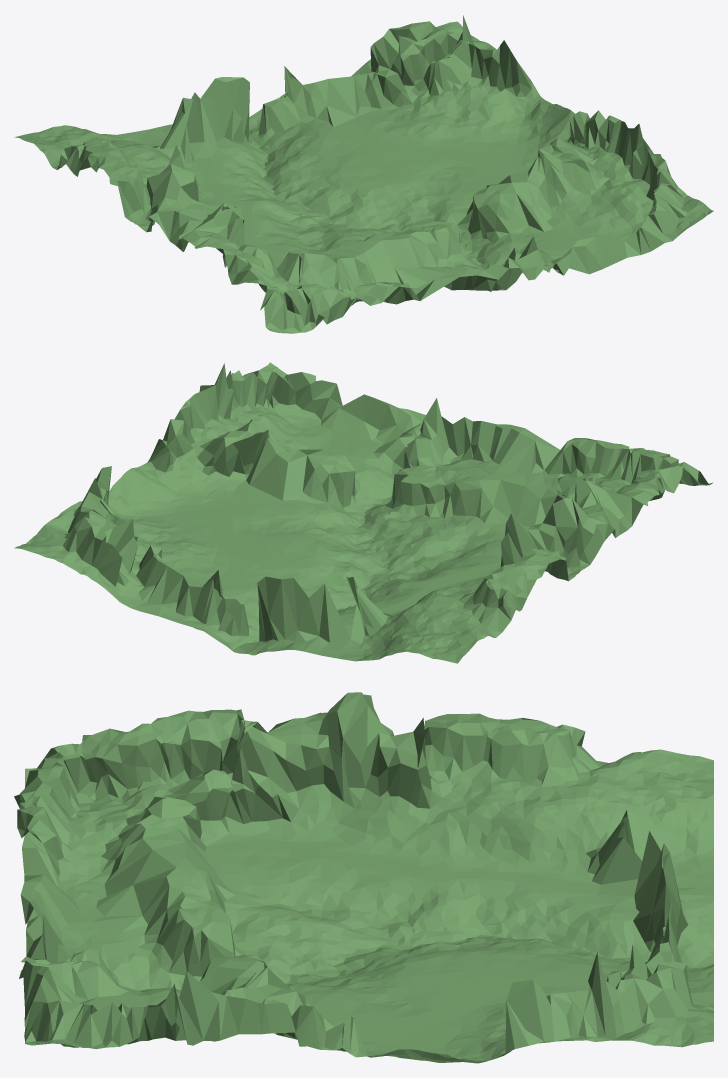
Rendered from vally.fbx.
3 renders of one model, top to bottom at view 1: azimuth 30°, elevation 25°; view 2: azimuth 150°, elevation 25°; view 3: azimuth 270°, elevation 25°, orthographic. The views are drawn at different scales.
Visible parts, largest first — view 1: Landscape; view 2: Landscape; view 3: Landscape.
Part boxes in pixels (<box>): Landscape: <box>14,15,713,333</box>; Landscape: <box>14,362,713,663</box>; Landscape: <box>14,692,713,1063</box>.
Bounding box in the file's own units: 1323 × 296 × 1305.
